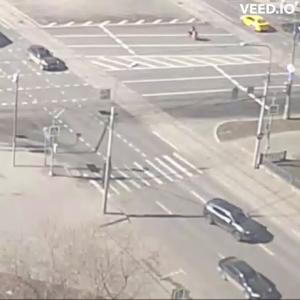car: (205, 198, 274, 245), (220, 257, 284, 300), (26, 47, 66, 72), (239, 16, 273, 34)
